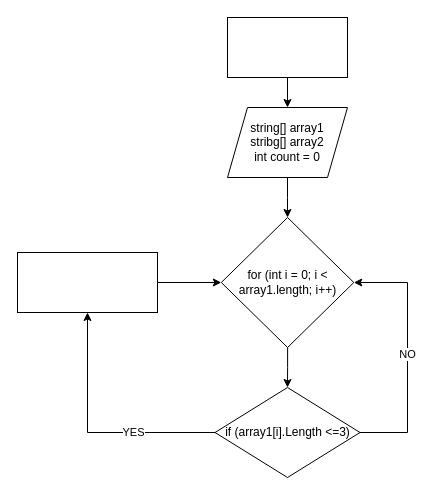
Image size: 433x495. Some labels were removed from this diagram. Here are the shapes that lost their labels. From the top down, the box of each, then its label:
(226, 16, 348, 78): SecondArrayWithIf
(16, 252, 158, 312): array2[count] = array1[i] count++;
